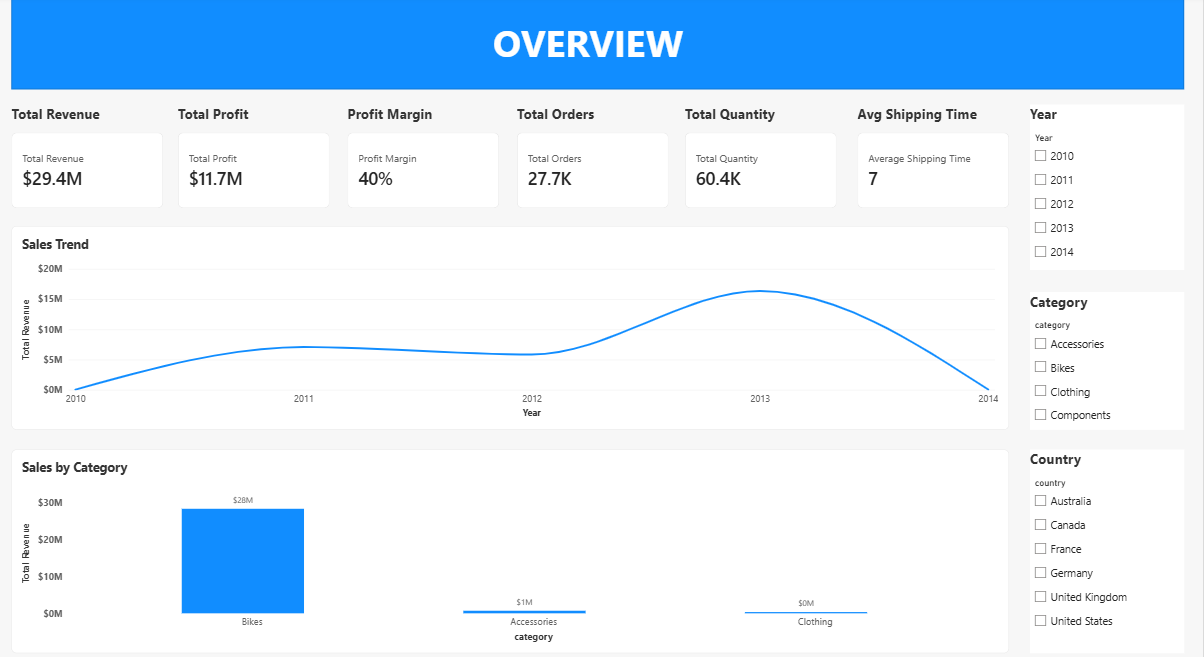

What the dashboard file says about the page in this screenshot:
{"tool":"powerbi","page":{"name":"Overview","canvas":[1920,1080],"ordinal":0},"visuals":[{"type":"cardVisual","title":"Total Revenue","fields":{"Data":["fact_sales.Total Sales"]},"box":[25.4,173.9,241.3,165.2],"z":0},{"type":"cardVisual","title":"Total Orders","fields":{"Data":["fact_sales.Total Orders"]},"box":[829.7,173.9,241.3,165.2],"z":1000},{"type":"lineChart","title":"Sales Trend","fields":{"Category":["Calendar.Year"],"Y":["fact_sales.Total Sales"]},"box":[26.1,367.4,1587,323.9],"z":2000},{"type":"slicer","title":"Year","fields":{"Values":["Calendar.Year"]},"box":[1645.7,173.9,245.7,263],"z":3000},{"type":"slicer","title":"Category","fields":{"Values":["dim_products.category"]},"box":[1674.9,503.4,245.7,219.6],"z":4000},{"type":"slicer","title":"Country","fields":{"Values":["dim_customers.country"]},"box":[1645.7,723.9,245.7,323.9],"z":5000},{"type":"clusteredColumnChart","title":"Sales by Category","fields":{"Category":["dim_products.category"],"Y":["fact_sales.Total Sales"]},"box":[26.1,723.9,1587,323.9],"z":6000},{"type":"shape","box":[25.4,0,1865.2,150],"z":7000},{"type":"textbox","box":[560.9,37,765.2,84.8],"z":8000},{"type":"cardVisual","title":"Total Profit","fields":{"Data":["fact_sales.Total Profit"]},"box":[290.6,173.9,241.3,165.2],"z":9000},{"type":"cardVisual","title":"Profit Margin","fields":{"Data":["fact_sales.Profit Margin"]},"box":[560.1,173.9,241.3,165.2],"z":10000},{"type":"cardVisual","title":"Total Quantity","fields":{"Data":["fact_sales.Total Quantity"]},"box":[1097.1,173.9,241.3,165.2],"z":11000},{"type":"cardVisual","title":"Avg Shipping Time","fields":{"Data":["fact_sales.Average Shipping Time"]},"box":[1371,173.9,241.3,165.2],"z":12000}]}

Visuals, with their boxes on the page's 1920x1080 design canvas (x1, y1, x2, y2). These are canvas units, not pixel positions in the 1204x657 screenshot, which may show the page scaled, cropped or inside an application window:
"Total Revenue" cardVisual: locate(25, 174, 267, 339)
"Total Orders" cardVisual: locate(830, 174, 1071, 339)
"Sales Trend" lineChart: locate(26, 367, 1613, 691)
"Year" slicer: locate(1646, 174, 1891, 437)
"Category" slicer: locate(1675, 503, 1921, 723)
"Country" slicer: locate(1646, 724, 1891, 1048)
"Sales by Category" clusteredColumnChart: locate(26, 724, 1613, 1048)
shape: locate(25, 0, 1891, 150)
textbox: locate(561, 37, 1326, 122)
"Total Profit" cardVisual: locate(291, 174, 532, 339)
"Profit Margin" cardVisual: locate(560, 174, 801, 339)
"Total Quantity" cardVisual: locate(1097, 174, 1338, 339)
"Avg Shipping Time" cardVisual: locate(1371, 174, 1612, 339)
